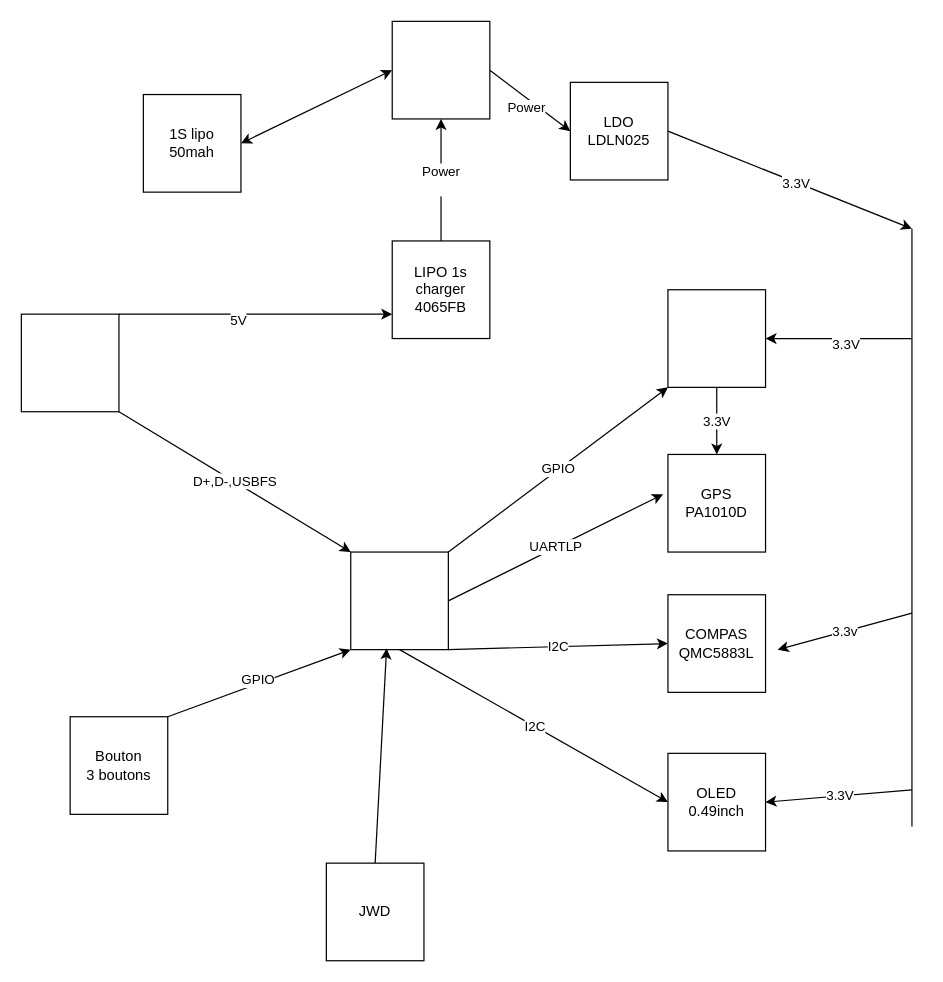
The diagram is 943 pixels wide and 982 high, and some of its shapes have lost their labels. The shapes that lost their labels are listed below. From the top down, each one's centre as x and y in pixels, then its label:
At pixel 440 69: "Interrupteur général".
At pixel 716 338: "Nmos 2N7002".
At pixel 69 362: "USB C".
At pixel 399 600: "STM32L432".
